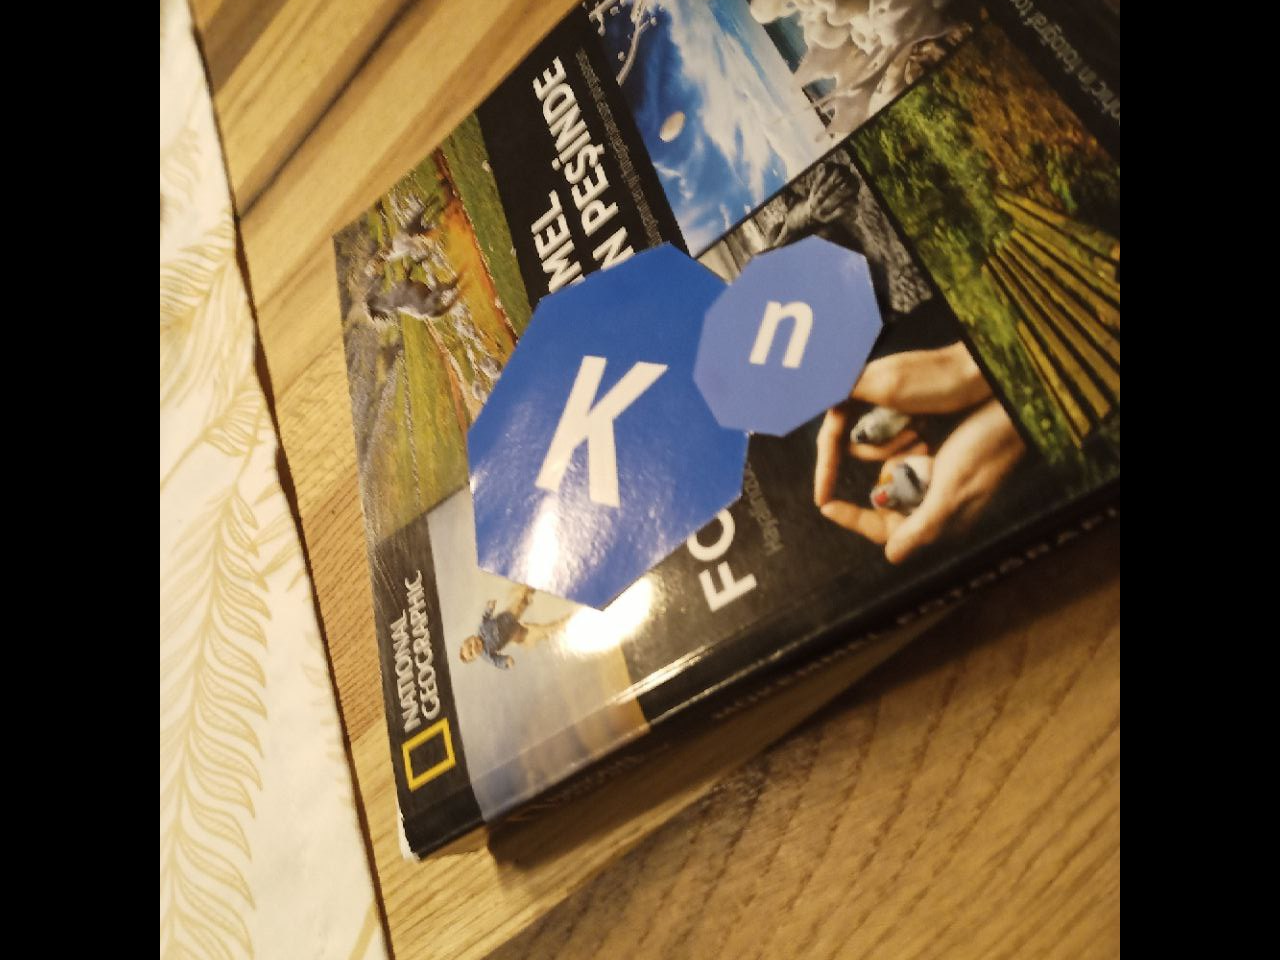knative: (464, 233, 873, 611)
